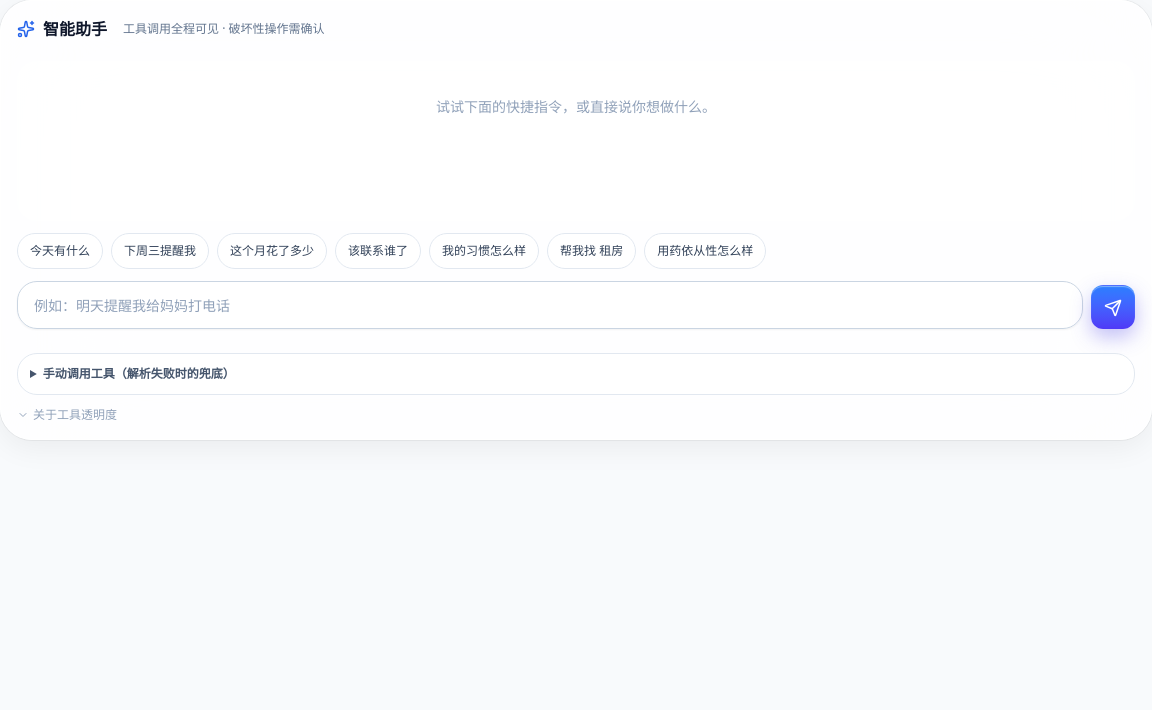
Test: AssistantPanel (checkbox 109) › issues the confirm request exactly once on 确认, and the action then runs
The width and height of the screenshot is (1152, 710).
Type "删除事件 42" into the field with test id "assistant-input" at (550,305), box x1=17 y1=281 x2=1083 y2=329
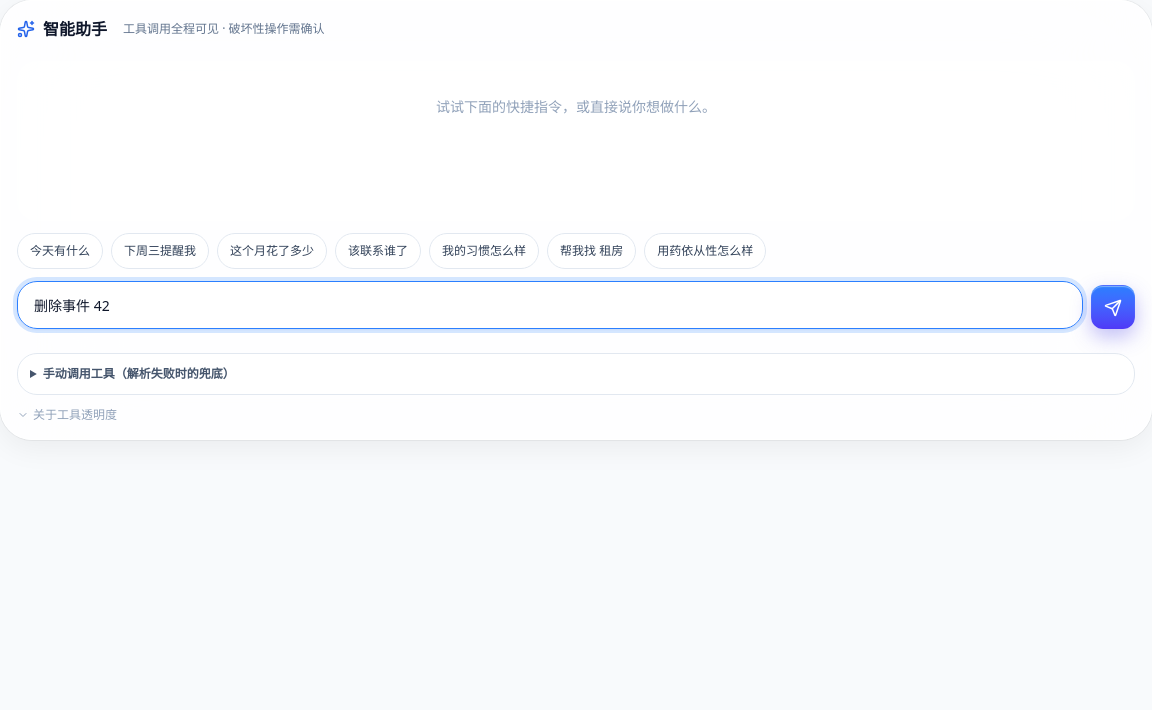
Click the button with test id "assistant-submit" at (1113,307), box x1=1091 y1=285 x2=1135 y2=329
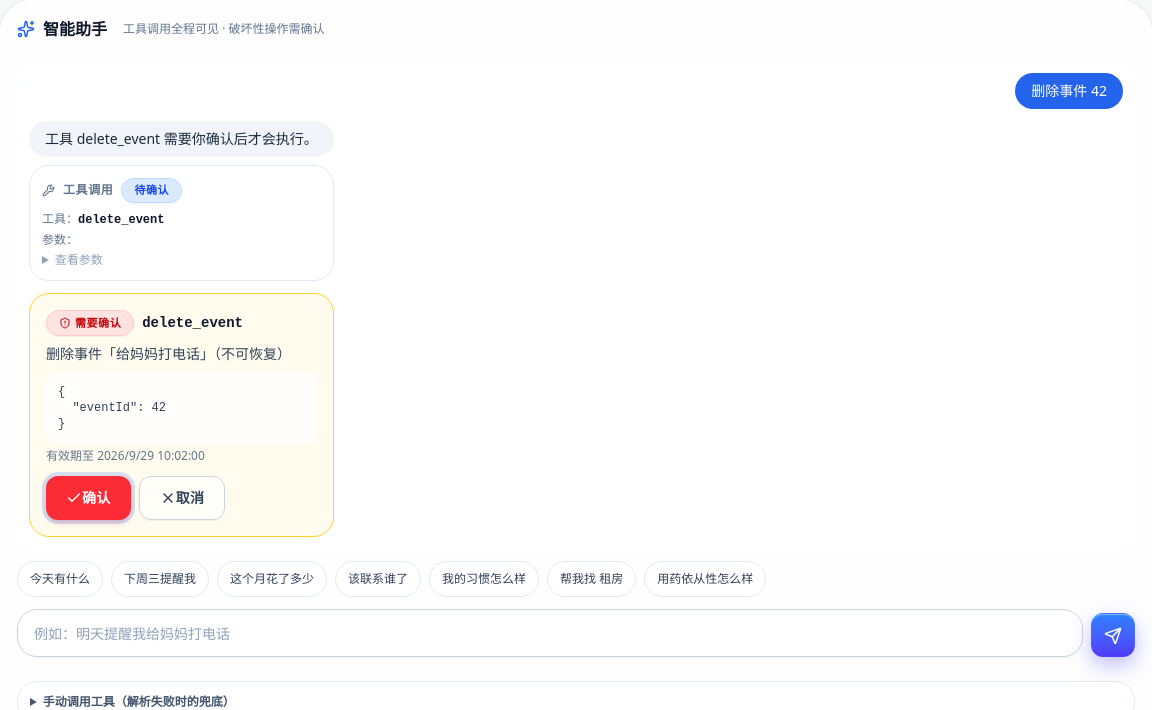
Result: the element with test id "assistant-confirmation" is shown at x1=29 y1=293 x2=334 y2=537
Click the button with test id "assistant-confirm" at (88,498), box x1=46 y1=476 x2=131 y2=520
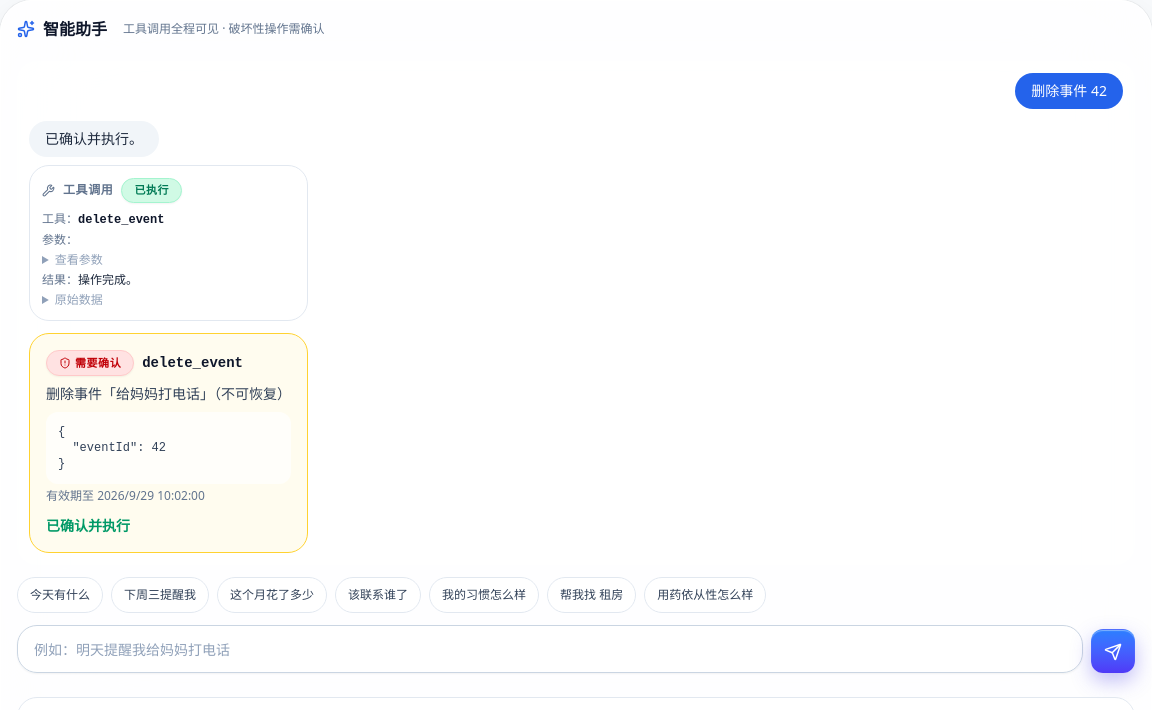
Result: the text "已确认并执行" is shown at x1=46 y1=516 x2=130 y2=535
